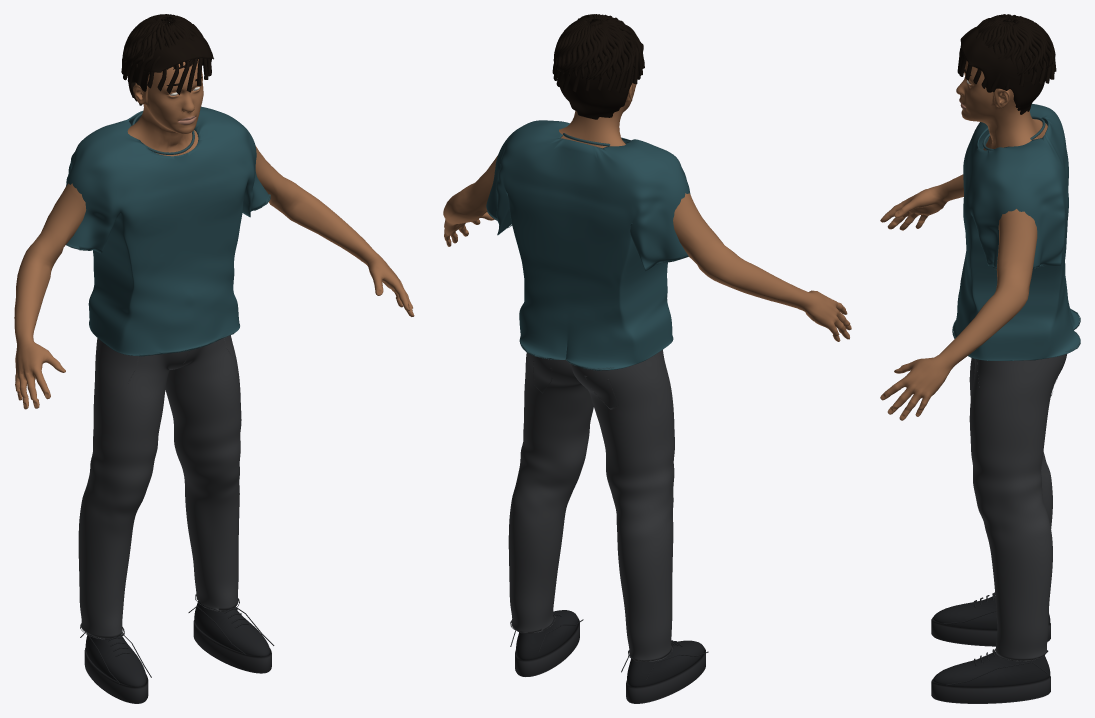
3 views of the same model, side by side, from view 1: azimuth 30°, elevation 25°; view 2: azimuth 150°, elevation 25°; view 3: azimuth 270°, elevation 25° (orthographic). The views are drawn at different scales.
Parts seen in each view (by area): view 1: Teal crew neck T-shirt, Charcoal straight trousers, gen3d_mpfb_body, Sneaker upper 1, Sneaker upper -1, Short wavy hair cap, Rubber outsole 1, Rubber outsole -1; view 2: Teal crew neck T-shirt, Charcoal straight trousers, gen3d_mpfb_body, Short wavy hair cap, Sneaker upper -1, Sneaker upper 1, Rubber outsole -1, Rubber outsole 1; view 3: Charcoal straight trousers, Teal crew neck T-shirt, gen3d_mpfb_body, Short wavy hair cap, Sneaker upper 1, Rubber outsole 1, Sneaker upper -1, Rubber outsole -1.
Part boxes in pixels (x1,y1,x2,y2): Teal crew neck T-shirt: [66, 106, 268, 355]; Charcoal straight trousers: [78, 335, 241, 638]; gen3d_mpfb_body: [14, 59, 414, 409]; Sneaker upper 1: [194, 601, 270, 656]; Sneaker upper -1: [85, 634, 146, 686]; Short wavy hair cap: [127, 35, 213, 105]; Rubber outsole 1: [193, 620, 271, 673]; Rubber outsole -1: [84, 648, 148, 703]; Teal crew neck T-shirt: [486, 120, 690, 370]; Charcoal straight trousers: [508, 350, 674, 660]; gen3d_mpfb_body: [443, 83, 851, 341]; Short wavy hair cap: [558, 20, 643, 119]; Sneaker upper -1: [627, 640, 704, 687]; Sneaker upper 1: [516, 610, 578, 660]; Rubber outsole -1: [626, 647, 705, 703]; Rubber outsole 1: [515, 618, 579, 676]; Charcoal straight trousers: [969, 354, 1066, 660]; Teal crew neck T-shirt: [953, 103, 1079, 360]; gen3d_mpfb_body: [880, 60, 1047, 420]; Short wavy hair cap: [960, 21, 1047, 114]; Sneaker upper 1: [933, 651, 1050, 686]; Rubber outsole 1: [931, 676, 1050, 703]; Sneaker upper -1: [933, 595, 1050, 629]; Rubber outsole -1: [931, 617, 1050, 646].
Size of the model in its own units: 1.16 by 1.83 by 0.5131.
